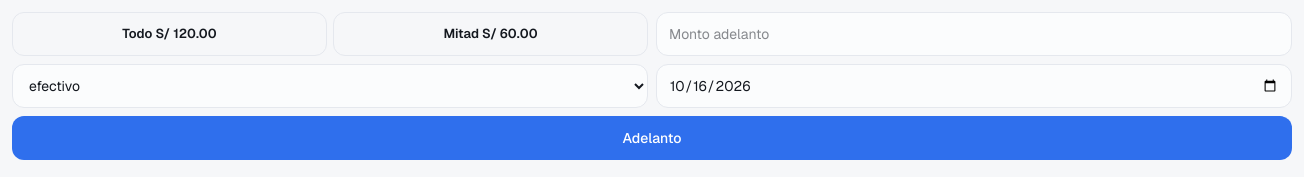
Test: AbonoForm — atajos de monto › «Mitad» llena la mitad
The image size is (1304, 177).
Click the button "Mitad S/ 60.00".
click(490, 34)  # box [333,12,648,56]
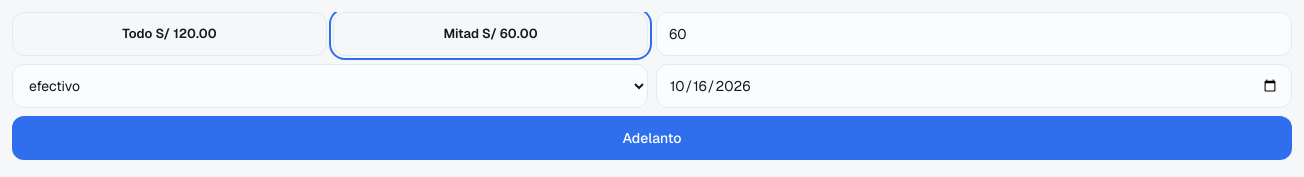
Expected: the number field named "monto" holds "60", [656,12,1292,56]
